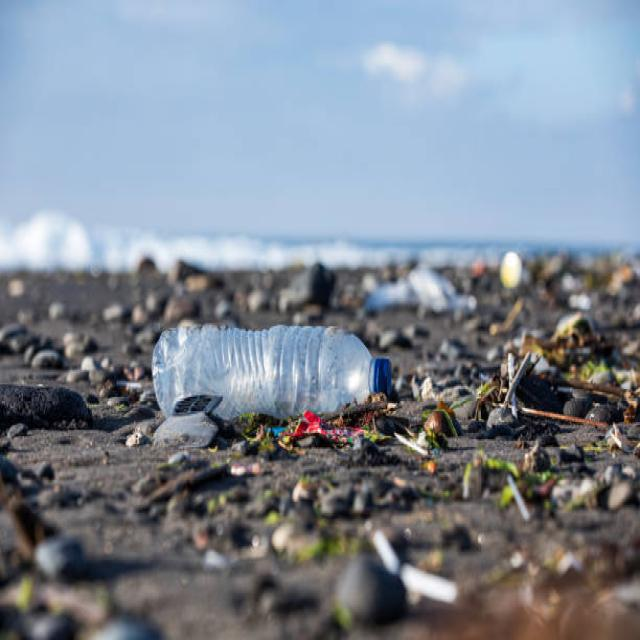plastic: (141, 310, 390, 426)
